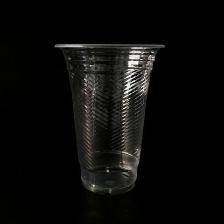glass: (49, 36, 170, 202)
